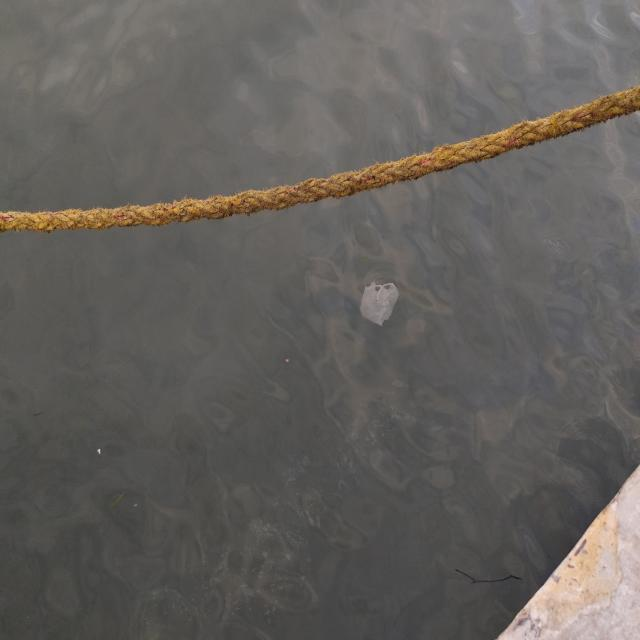Kantong Plastik: (358, 279, 401, 329)
